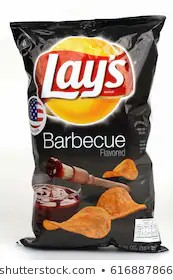lays-med: (16, 14, 166, 255)
